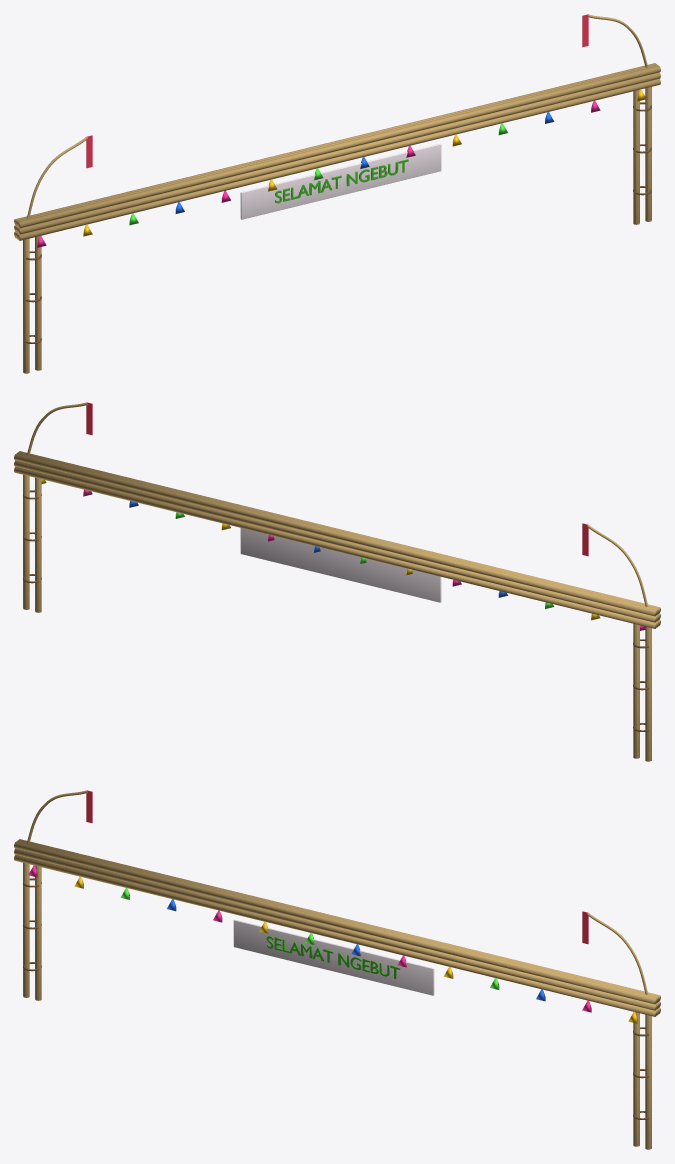
The model's file is gapura-sawah.glb.
The picture shows the model from 3 angles, top to bottom: view 1: azimuth 30°, elevation 25°; view 2: azimuth 150°, elevation 25°; view 3: azimuth 330°, elevation 25°; orthographic projection.
Parts seen in each view (by area): view 1: Cube.002, Cylinder.010, Cylinder.007, Cylinder.004, Cylinder.011, Cylinder.012, teks, Cylinder, Cylinder.002, Cylinder.003, Cylinder.001; view 2: Cube.002, Cylinder.012, Cylinder.006, Cylinder.009, Cylinder.011, Cylinder.010, Cylinder, Cylinder.002, Cylinder.001, Cylinder.003; view 3: Cylinder.010, Cube.002, Cylinder.007, Cylinder.004, Cylinder.011, Cylinder.012, teks, Cylinder.003, Cylinder.001, Cylinder, Cylinder.002.
Boxes of the visible parts, box(x1,y1,x2,y2) form: Cube.002: box(240, 143, 441, 219); Cylinder.010: box(17, 65, 660, 228); Cylinder.007: box(17, 72, 660, 234); Cylinder.004: box(17, 78, 660, 240); Cylinder.011: box(15, 64, 657, 226); Cylinder.012: box(14, 63, 656, 225); teks: box(275, 159, 408, 203); Cylinder: box(23, 238, 29, 373); Cylinder.002: box(633, 90, 639, 224); Cylinder.003: box(645, 87, 651, 221); Cylinder.001: box(35, 236, 41, 370); Cube.002: box(240, 528, 441, 602); Cylinder.012: box(14, 453, 657, 616); Cylinder.006: box(14, 466, 657, 628); Cylinder.009: box(14, 460, 657, 622); Cylinder.011: box(17, 452, 659, 614); Cylinder.010: box(18, 451, 660, 613); Cylinder: box(645, 626, 651, 761); Cylinder.002: box(35, 477, 41, 612); Cylinder.001: box(633, 623, 639, 758); Cylinder.003: box(23, 475, 29, 609); Cylinder.010: box(14, 841, 657, 1004); Cube.002: box(233, 919, 434, 995); Cylinder.007: box(14, 848, 657, 1010); Cylinder.004: box(14, 854, 657, 1016); Cylinder.011: box(17, 840, 659, 1002); Cylinder.012: box(18, 839, 660, 1001); teks: box(266, 936, 400, 978); Cylinder.003: box(645, 1014, 651, 1149); Cylinder.001: box(35, 866, 41, 1000); Cylinder: box(23, 863, 29, 997); Cylinder.002: box(633, 1012, 639, 1146).
Size of the model in its own units: 64 by 21.1 by 1.66.
